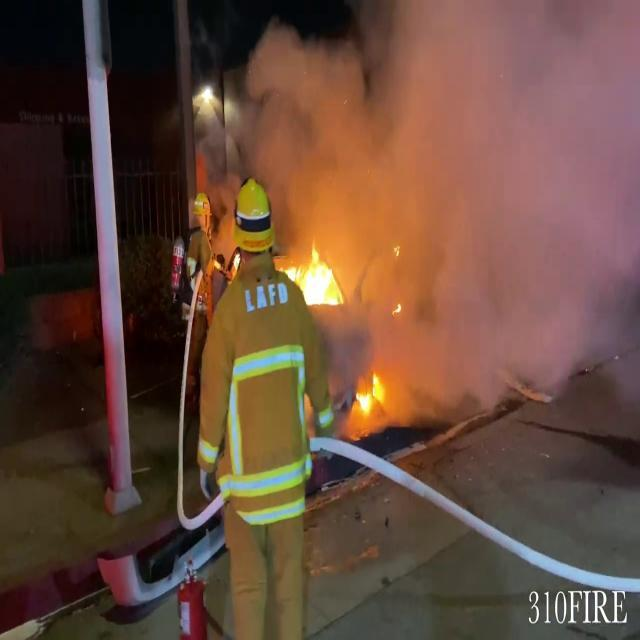Fire: (286, 242, 346, 312), (350, 367, 388, 424)
Smoke: (303, 0, 640, 422)
